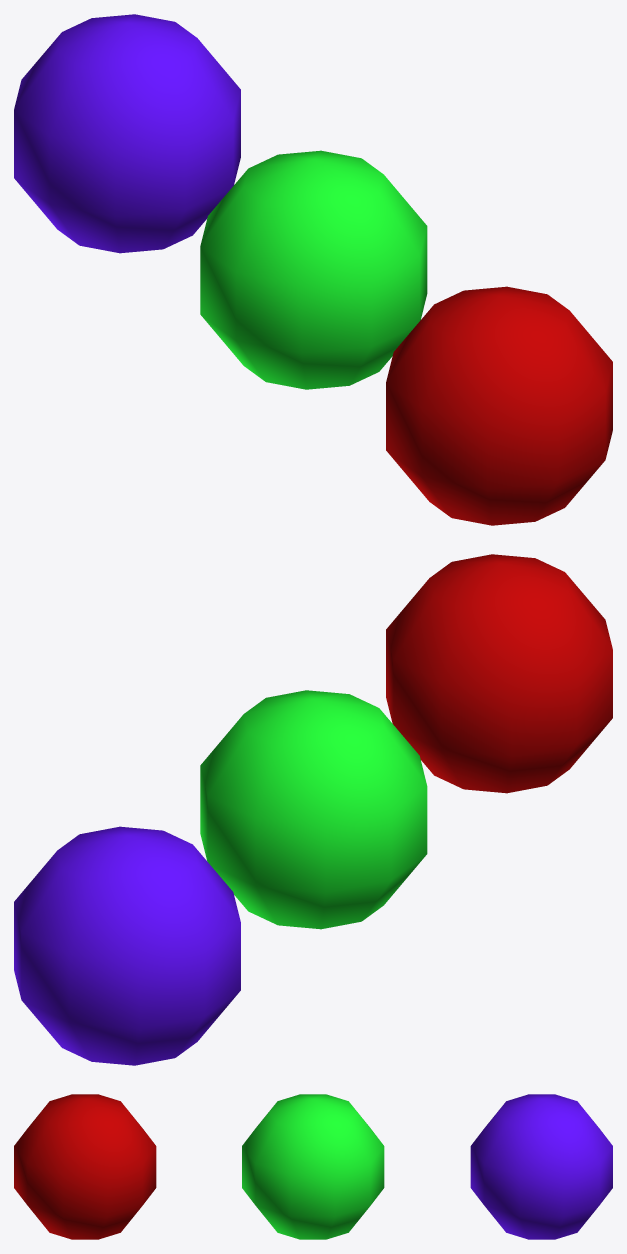
The picture shows the model from 3 angles, top to bottom: view 1: azimuth 30°, elevation 25°; view 2: azimuth 150°, elevation 25°; view 3: azimuth 270°, elevation 25°; orthographic projection. The views are drawn at different scales.
Parts seen in each view (by area): view 1: 빨간정령 껍데기, 초록정령 껍데기, 파란정령 껍데기; view 2: 초록정령 껍데기, 파란정령 껍데기, 빨간정령 껍데기; view 3: 파란정령 껍데기, 초록정령 껍데기, 빨간정령 껍데기.
Boxes of the visible parts, <box> form: 빨간정령 껍데기: <box>386,286,612,525</box>; 초록정령 껍데기: <box>200,150,427,389</box>; 파란정령 껍데기: <box>14,14,240,253</box>; 초록정령 껍데기: <box>200,690,427,929</box>; 파란정령 껍데기: <box>14,826,240,1065</box>; 빨간정령 껍데기: <box>386,554,612,793</box>; 파란정령 껍데기: <box>470,1094,612,1239</box>; 초록정령 껍데기: <box>242,1094,384,1239</box>; 빨간정령 껍데기: <box>14,1094,156,1239</box>.
Size of the model in its own units: 6.28 by 6.94 by 27.77.
